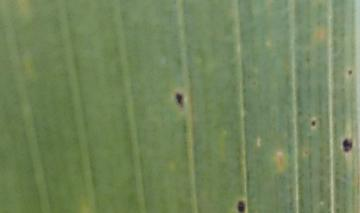tarspot: (342, 138, 353, 152), (175, 92, 184, 108), (237, 200, 245, 213), (311, 119, 317, 128), (347, 69, 353, 76)
